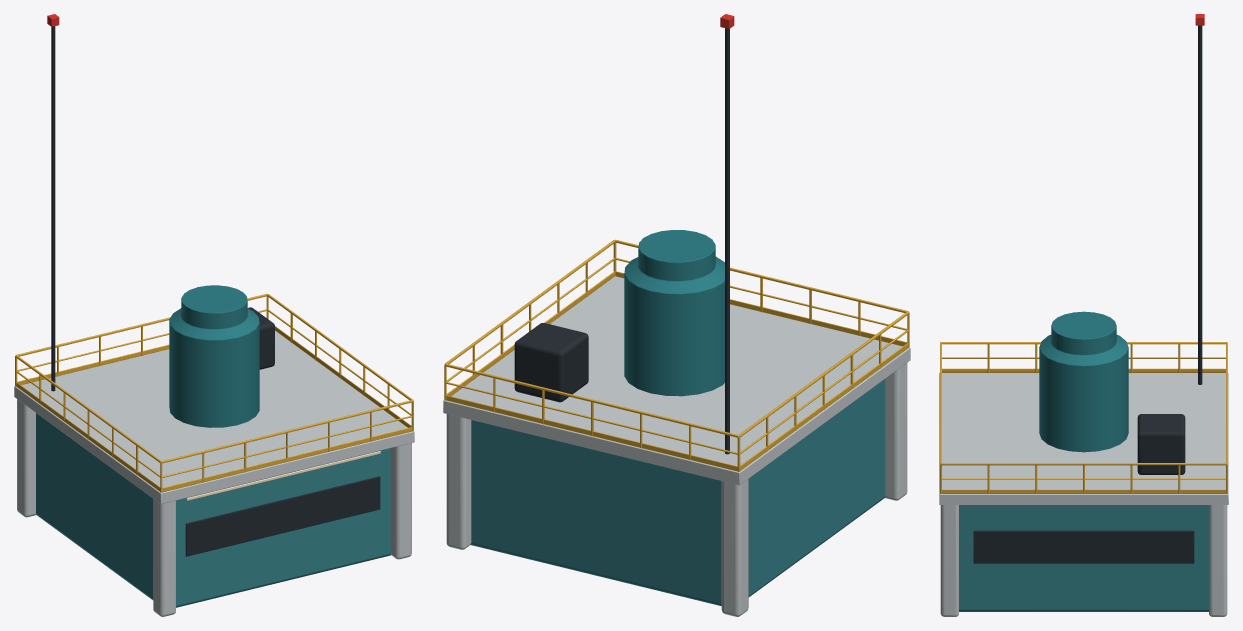
File: hero_tower_crown.fbx
The picture shows the model from 3 angles, left to right: view 1: azimuth 30°, elevation 25°; view 2: azimuth 150°, elevation 25°; view 3: azimuth 270°, elevation 25°; orthographic projection. The views are drawn at different scales.
Parts seen in each view (by area): view 1: hero_tower_crown; view 2: hero_tower_crown; view 3: hero_tower_crown.
Part boxes in pixels (box(x1,y1,x2,y2)): hero_tower_crown: box(14, 14, 414, 616); hero_tower_crown: box(443, 14, 910, 616); hero_tower_crown: box(939, 14, 1228, 616).
Size of the model in its own units: 9.7 by 18.25 by 9.7.
